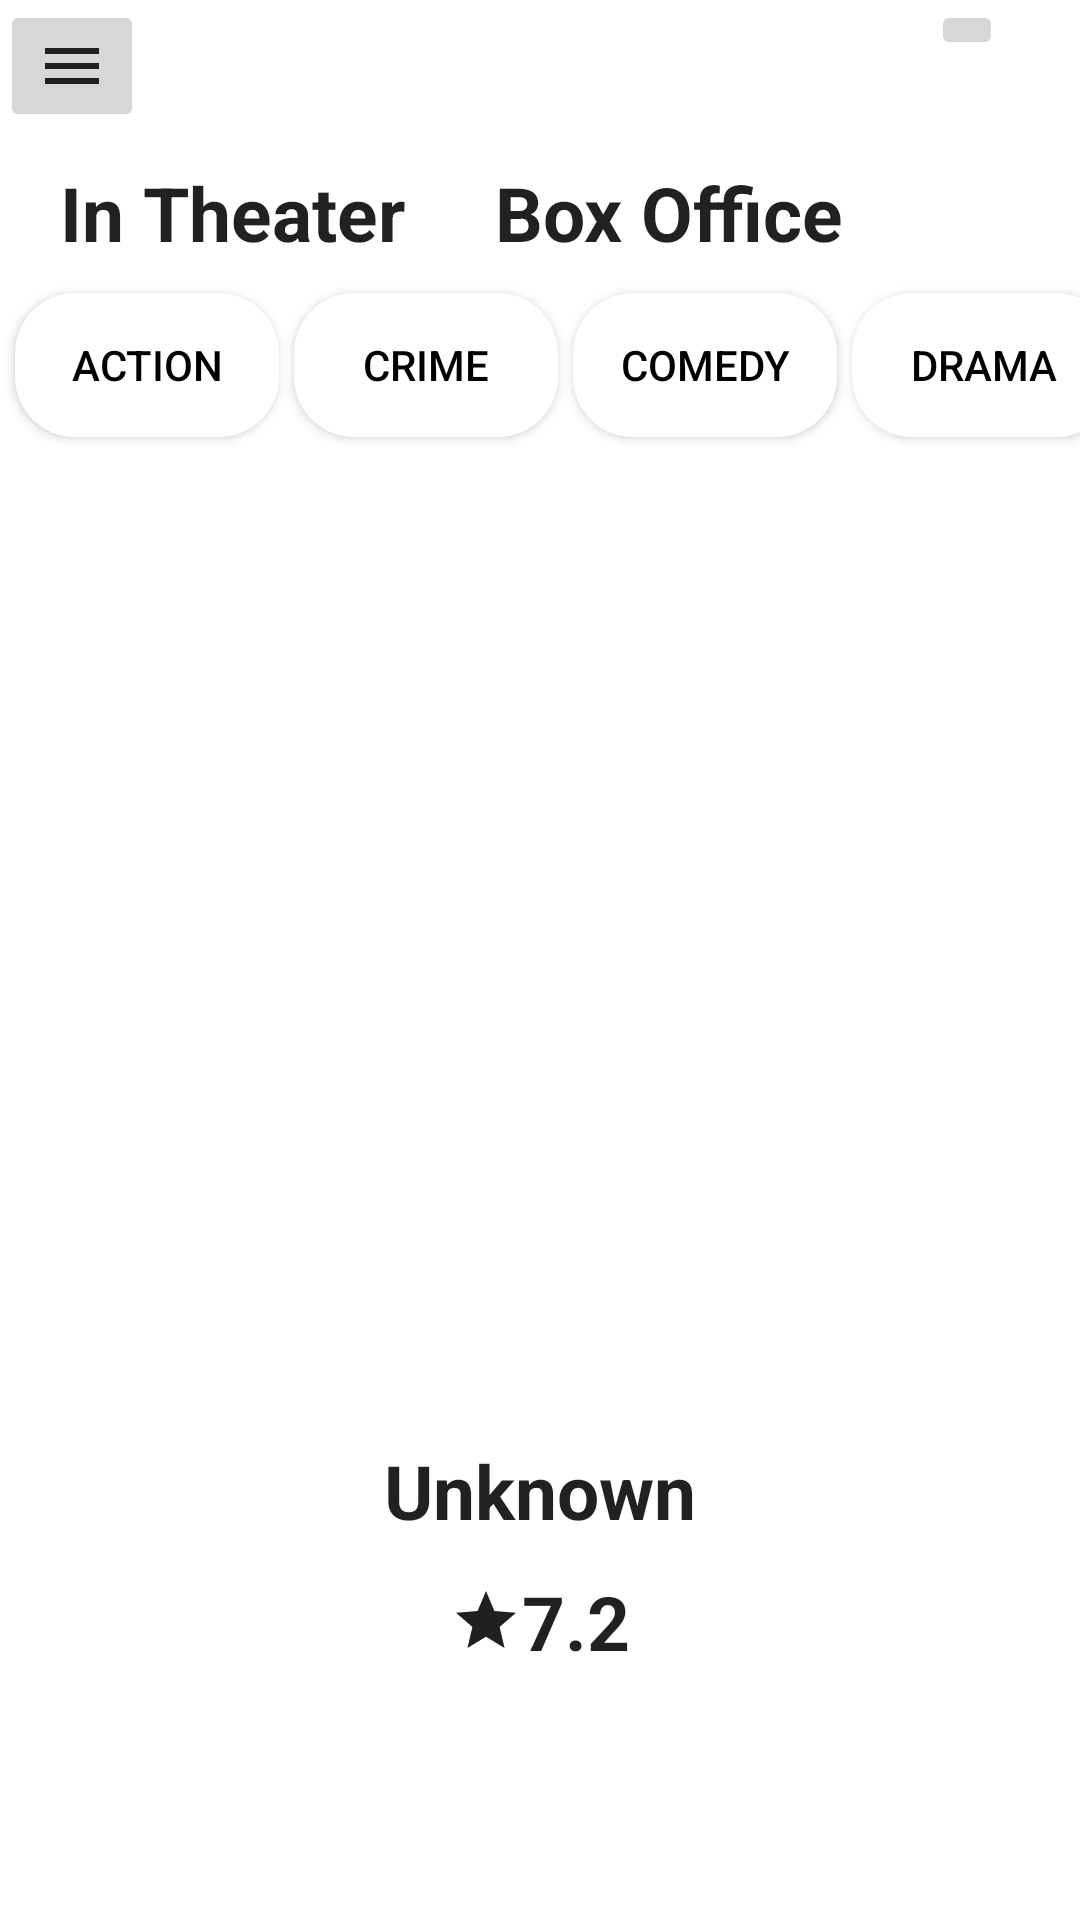

Icons on this 1080 × 1920 Android screen, each with the point to tap as (x=x, y=y):
menu: (x=72, y=66)
